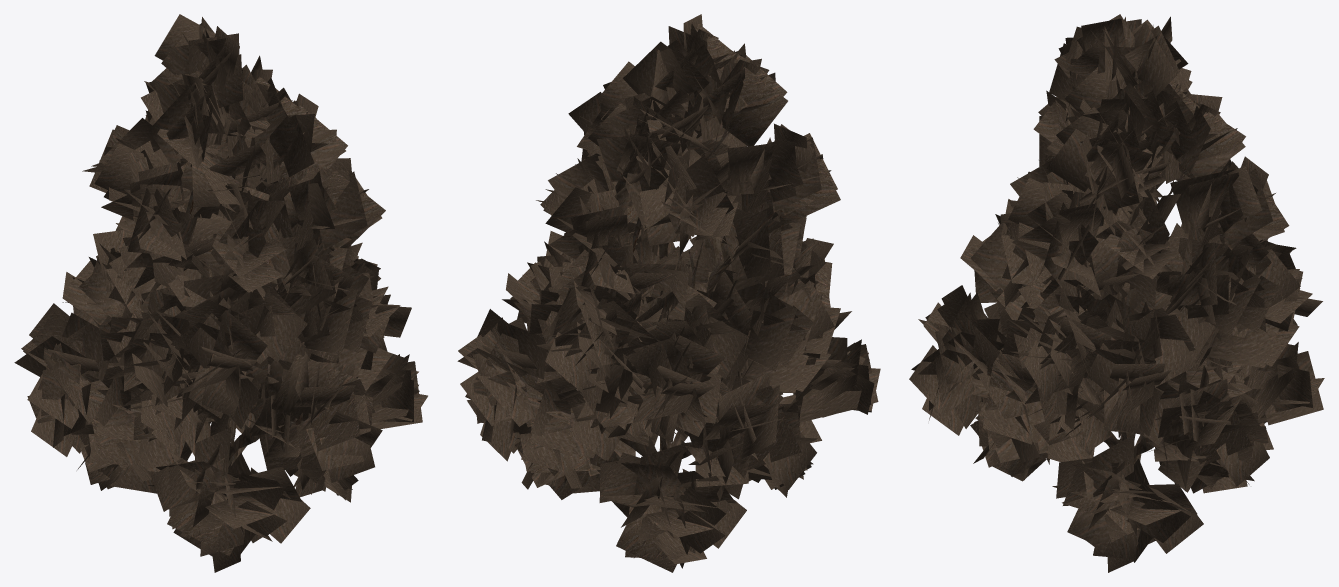
Rendered from oak.glb.
3 views of the same model, side by side, from view 1: azimuth 30°, elevation 25°; view 2: azimuth 150°, elevation 25°; view 3: azimuth 270°, elevation 25° (orthographic). The views are drawn at different scales.
Visible parts, largest first — view 1: org_oak; view 2: org_oak; view 3: org_oak.
Boxes of the visible parts, x1,y1,x2,y2 form: org_oak: (14, 14, 427, 572); org_oak: (457, 14, 880, 572); org_oak: (909, 14, 1324, 572).
Bounding box in the file's own units: 1.56 × 2.05 × 1.56.
Materials: 1 (1 with a texture image).
